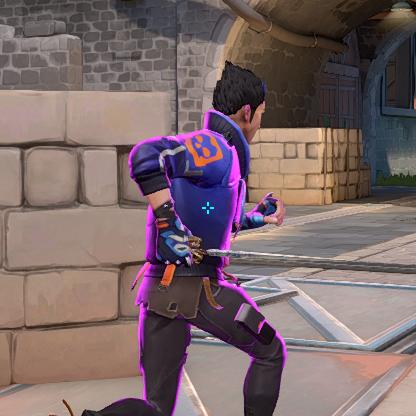enemyBody: (175, 140, 225, 271)
enemyHead: (220, 81, 257, 139)
